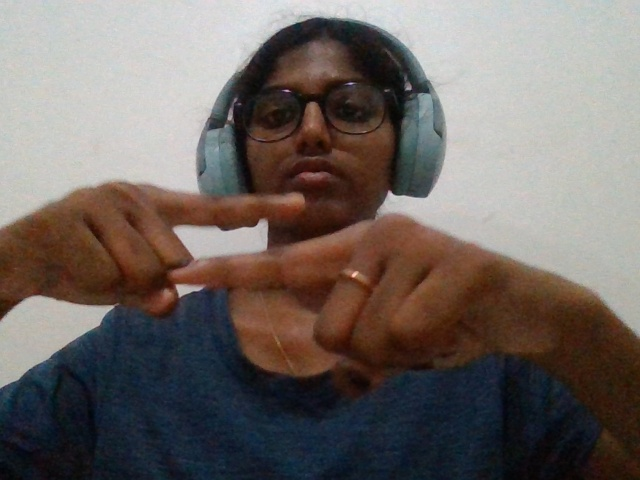Sign: (9, 127, 595, 463)
